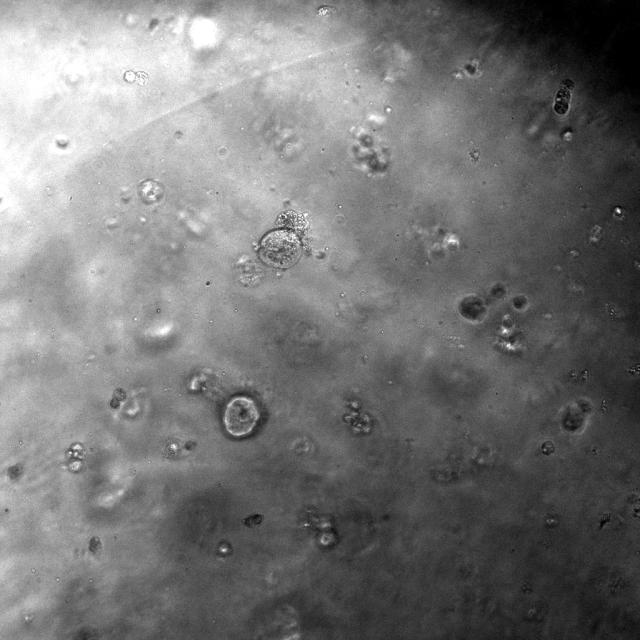organoid: (255, 209, 326, 269), (457, 282, 506, 323), (224, 395, 260, 438), (342, 400, 373, 435), (561, 398, 592, 432), (554, 79, 574, 116), (66, 442, 86, 473), (123, 70, 148, 85), (109, 388, 126, 409), (511, 294, 529, 311), (244, 513, 264, 527), (89, 536, 102, 554), (541, 440, 554, 455)
